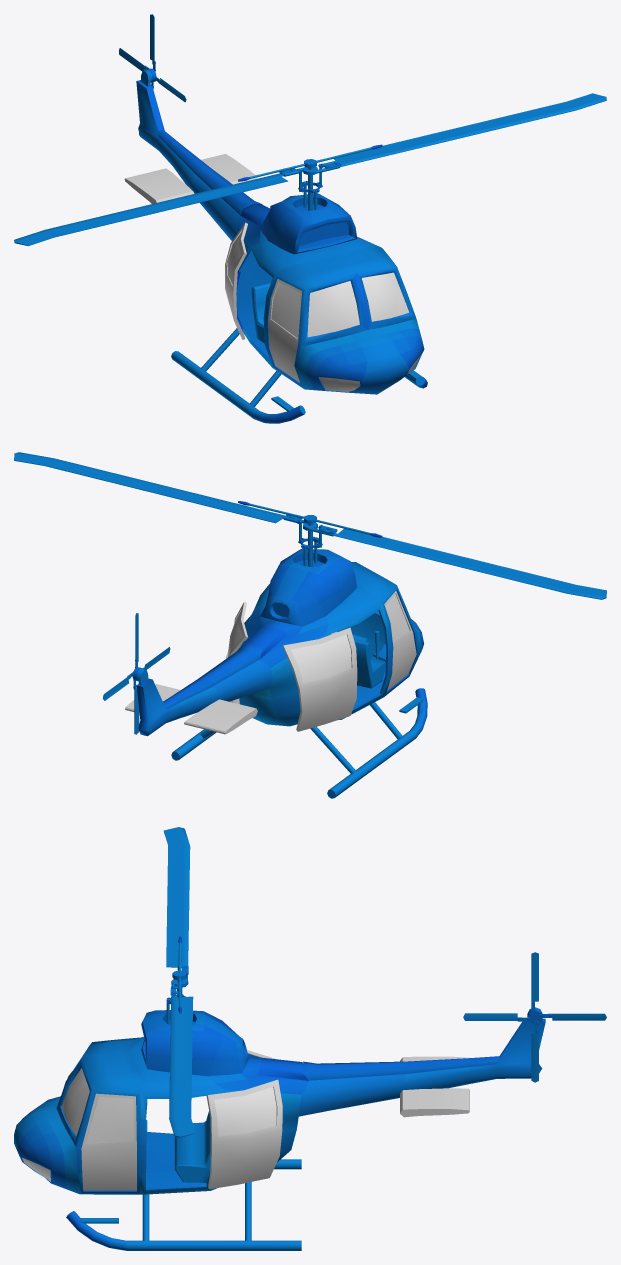
Rendered from helicopter.fbx.
The picture shows the model from 3 angles, top to bottom: view 1: azimuth 30°, elevation 25°; view 2: azimuth 150°, elevation 25°; view 3: azimuth 270°, elevation 25°; orthographic projection. The views are drawn at different scales.
Parts seen in each view (by area): view 1: Helicopter_Base, Helicopter_main_rotor, Helicopter_glass, Helicopter_Engine, Helicopter_gears, Helicopter_Door, Helicopter_tail_righ_wing, Helicopter_tail_left_wings, Helicopter_tail_rotor, Helicopter_Interier; view 2: Helicopter_Base, Helicopter_main_rotor, Helicopter_Door, Helicopter_Engine, Helicopter_gears, Helicopter_glass, Helicopter_Interier, Helicopter_tail_righ_wing, Helicopter_tail_rotor; view 3: Helicopter_Base, Helicopter_Door, Helicopter_main_rotor, Helicopter_glass, Helicopter_Engine, Helicopter_gears, Helicopter_tail_rotor, Helicopter_Interier, Helicopter_tail_left_wings.
Boxes of the visible parts, x1,y1,x2,y2 form: Helicopter_Base: (136, 69, 424, 394); Helicopter_main_rotor: (14, 93, 606, 246); Helicopter_glass: (227, 233, 421, 391); Helicopter_Engine: (260, 193, 357, 254); Helicopter_gears: (171, 328, 427, 423); Helicopter_Door: (225, 222, 301, 382); Helicopter_tail_righ_wing: (124, 168, 194, 203); Helicopter_tail_left_wings: (201, 154, 257, 184); Helicopter_tail_rotor: (119, 14, 186, 102); Helicopter_Interier: (251, 282, 270, 343); Helicopter_Base: (136, 562, 423, 736); Helicopter_main_rotor: (14, 452, 606, 599); Helicopter_Door: (226, 590, 416, 731); Helicopter_Engine: (260, 548, 356, 626); Helicopter_gears: (171, 688, 427, 798); Helicopter_glass: (228, 594, 409, 683); Helicopter_Interier: (337, 611, 385, 688); Helicopter_tail_righ_wing: (184, 699, 257, 734); Helicopter_tail_rotor: (103, 613, 170, 734); Helicopter_Base: (14, 1007, 545, 1194); Helicopter_Door: (81, 1050, 282, 1190); Helicopter_main_rotor: (163, 827, 195, 1137); Helicopter_glass: (22, 1068, 276, 1181); Helicopter_Engine: (141, 1010, 248, 1076); Helicopter_gears: (66, 1159, 301, 1250); Helicopter_tail_rotor: (463, 952, 606, 1082); Helicopter_Interier: (145, 1099, 210, 1182); Helicopter_tail_left_wings: (400, 1088, 469, 1117).
Bounding box in the file's own units: 657 × 260 × 532.
